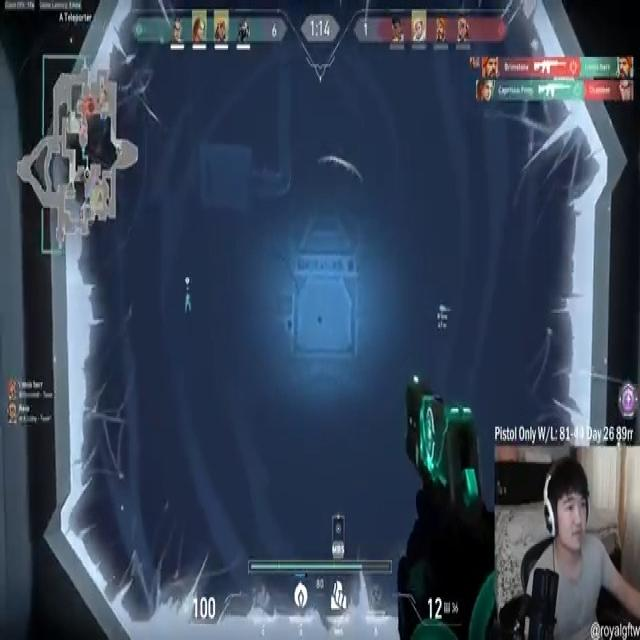ally behind wall: (184, 290, 192, 318)
